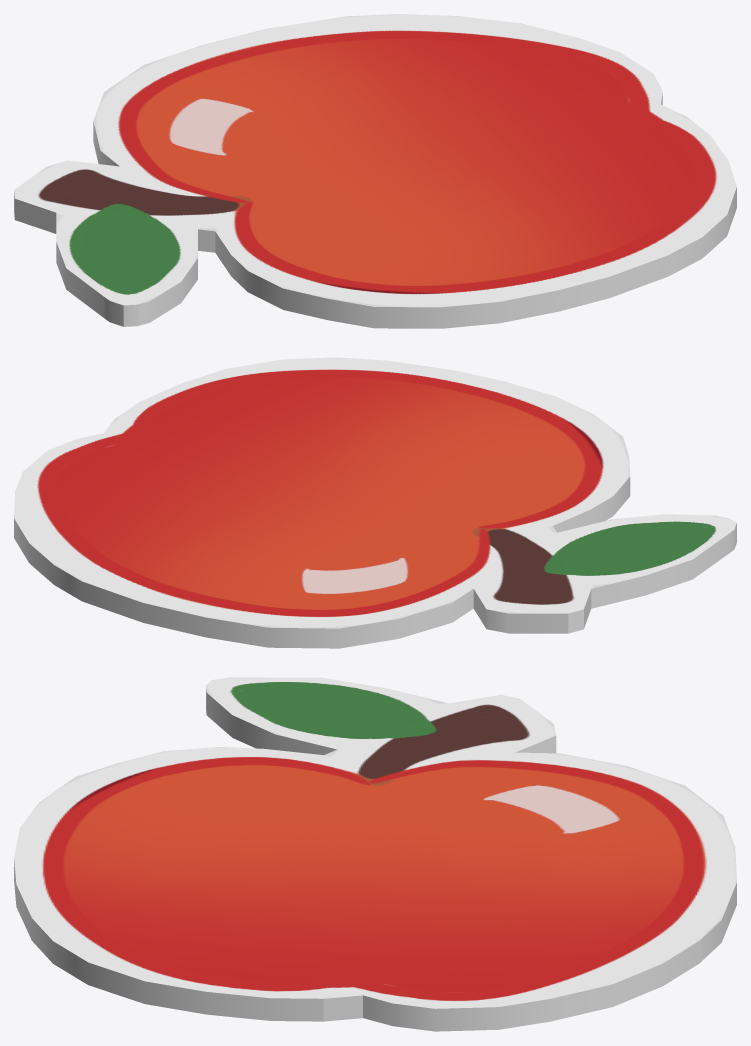
File: Mesh_Sticker_3.fbx
3 views of the same model, one above another, from view 1: azimuth 30°, elevation 25°; view 2: azimuth 150°, elevation 25°; view 3: azimuth 270°, elevation 25° (orthographic). The views are drawn at different scales.
Visible parts, largest first — view 1: pPlane17; view 2: pPlane17; view 3: pPlane17.
Boxes of the visible parts, box(x1,y1,x2,y2) form: pPlane17: box(14, 14, 736, 328); pPlane17: box(14, 357, 736, 648); pPlane17: box(14, 677, 736, 1031).
Size of the model in its own units: 18.76 by 0.6 by 17.29.
